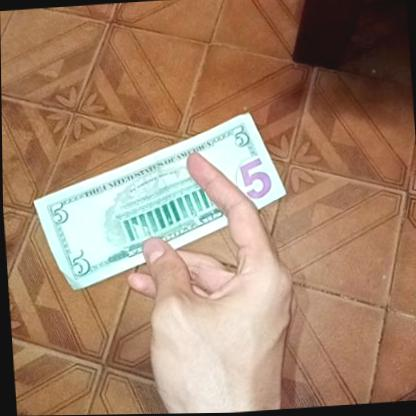five-back: (26, 108, 293, 295)
